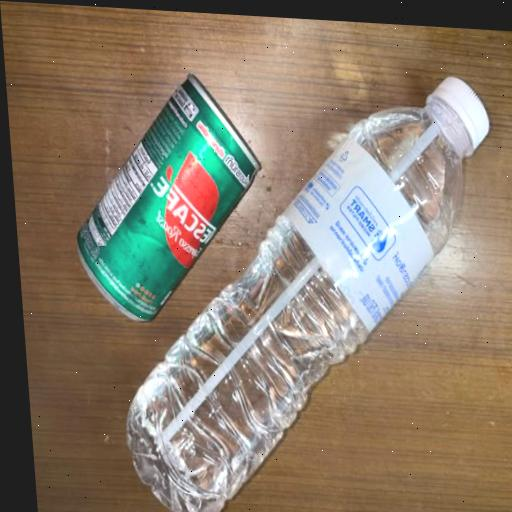bottle: (100, 25, 512, 512)
canned: (52, 37, 278, 339)
